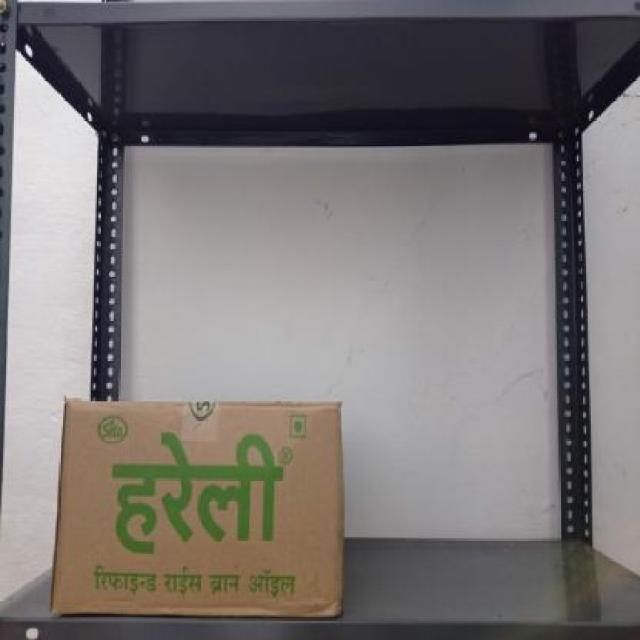box: (54, 399, 343, 616)
